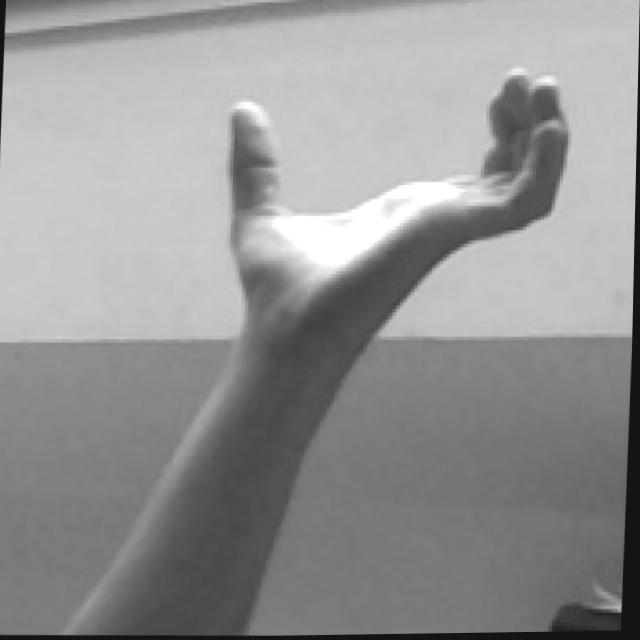space: (214, 54, 573, 347)
